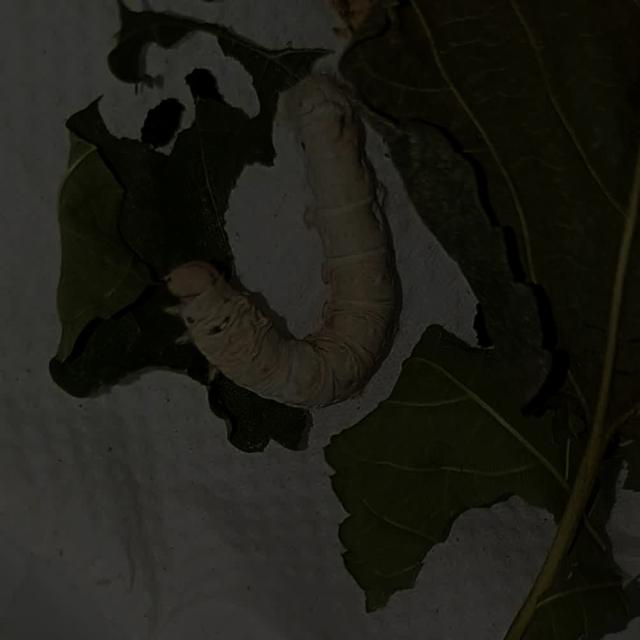Healthy: (152, 64, 417, 412)
